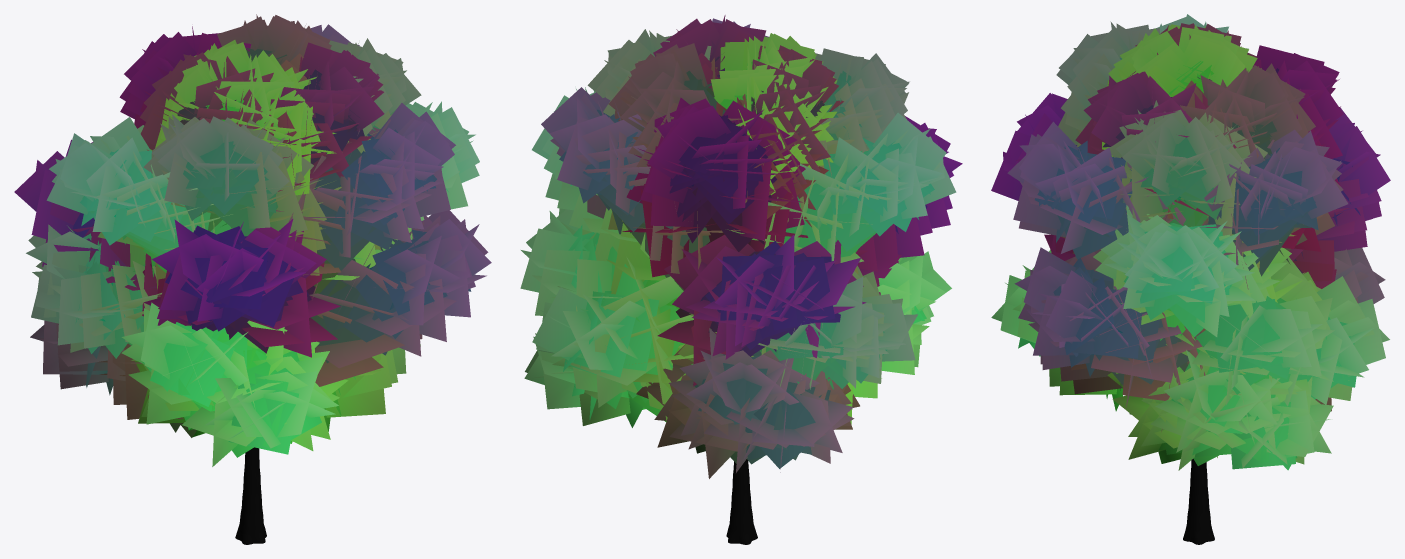
Rendered from Tree.fbx.
3 views of the same model, side by side, from view 1: azimuth 30°, elevation 25°; view 2: azimuth 150°, elevation 25°; view 3: azimuth 270°, elevation 25° (orthographic).
Parts seen in each view (by area): view 1: _1, _0; view 2: _1, _0; view 3: _1, _0.
Part boxes in pixels (box(x1,y1,x2,y2)): _1: box(14, 14, 491, 466); _0: box(235, 447, 266, 544); _1: box(520, 15, 962, 478); _0: box(726, 459, 757, 544); _1: box(991, 14, 1390, 470); _0: box(1183, 459, 1214, 544).
Size of the model in its own units: 476 by 565 by 409.
